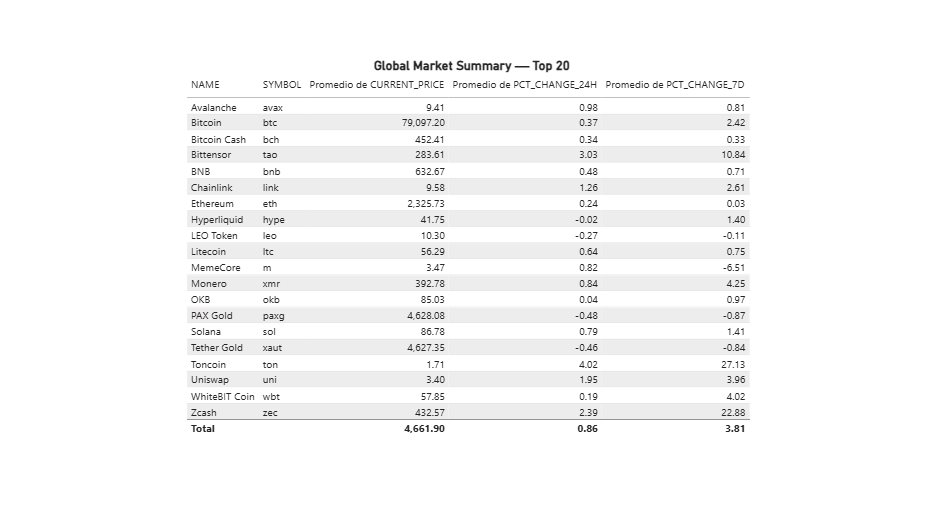

The page's visual inventory and layout, read from the dashboard file:
{"tool":"powerbi","page":{"name":"Global Summary","canvas":[1280,720],"ordinal":2},"visuals":[{"type":"tableEx","title":"Global Market Summary — Top 20","fields":{"Values":["VW_GOLD_GLOBAL_SUMMARY.NAME","VW_GOLD_GLOBAL_SUMMARY.SYMBOL","Avg(VW_GOLD_GLOBAL_SUMMARY.CURRENT_PRICE)","Avg(VW_GOLD_GLOBAL_SUMMARY.PCT_CHANGE_24H)","Avg(VW_GOLD_GLOBAL_SUMMARY.PCT_CHANGE_7D)"]},"box":[261.5,107.7,756.4,502.6],"z":0}]}

Visuals, with their boxes in screenshot pixels (x1, y1, x2, y2), scaled from the page's 1280x720 canvas onto the 942x516 screenshot:
"Global Market Summary — Top 20" tableEx: [left=192, top=77, right=749, bottom=437]
